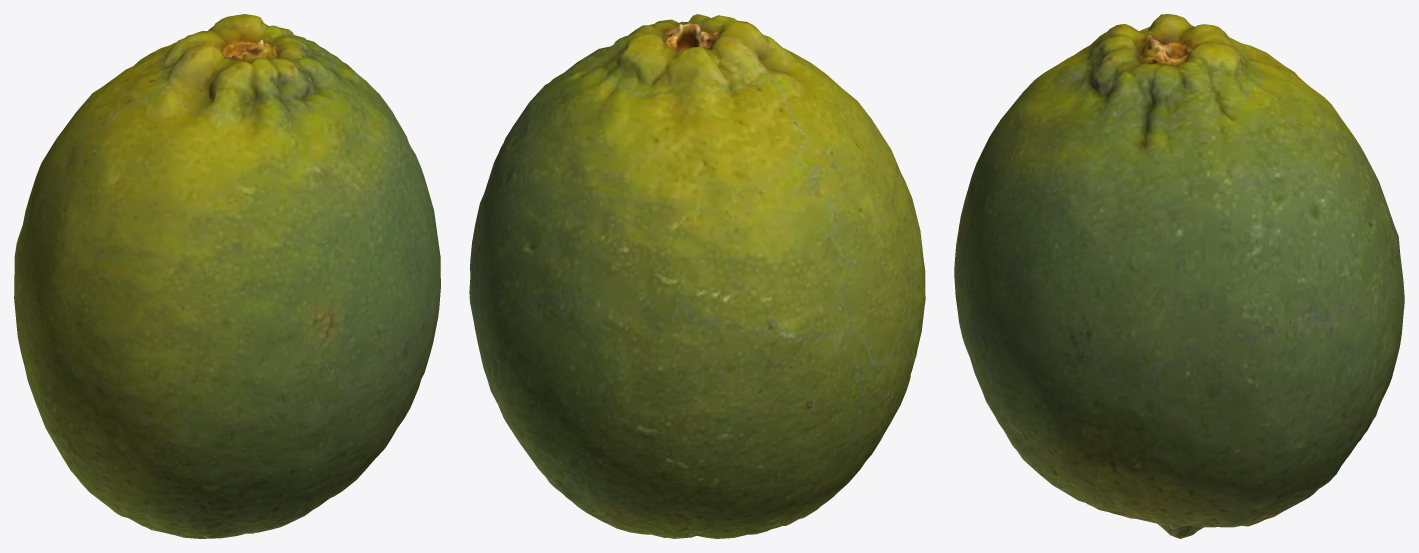
Rendered from food_lime_01.glb.
3 renders of one model, left to right at view 1: azimuth 30°, elevation 25°; view 2: azimuth 150°, elevation 25°; view 3: azimuth 270°, elevation 25°, orthographic.
Visible parts, largest first — view 1: food_lime_01; view 2: food_lime_01; view 3: food_lime_01.
Boxes of the visible parts, left/top/right/bottom form: food_lime_01: left=14, top=14, right=440, bottom=538; food_lime_01: left=469, top=14, right=925, bottom=538; food_lime_01: left=954, top=14, right=1404, bottom=538.
Bounding box in the file's own units: 0.0601 × 0.0754 × 0.0613.
Materials: 1 (1 with a texture image).
